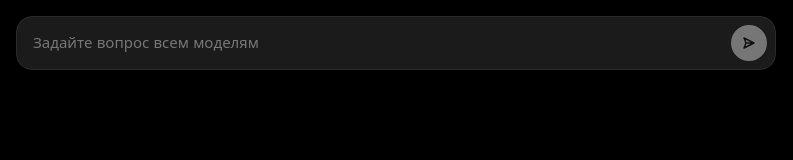
Test case: Composer › enter sends trimmed text and clears
The width and height of the screenshot is (793, 160).
Type "  hello  " into the text box.
click(376, 43); type("  hello  ")  # box [33,25,719,61]
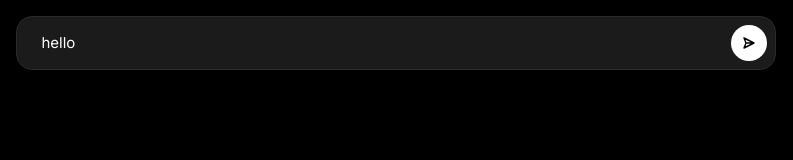
Press Enter in the text box, box [33,25,719,61]
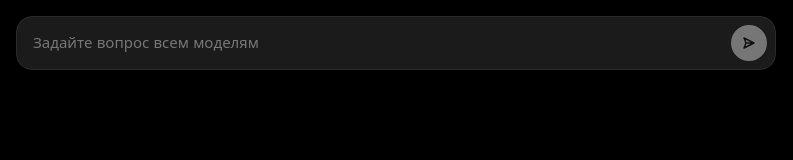
Check: the text box is empty, box [33,25,719,61]
